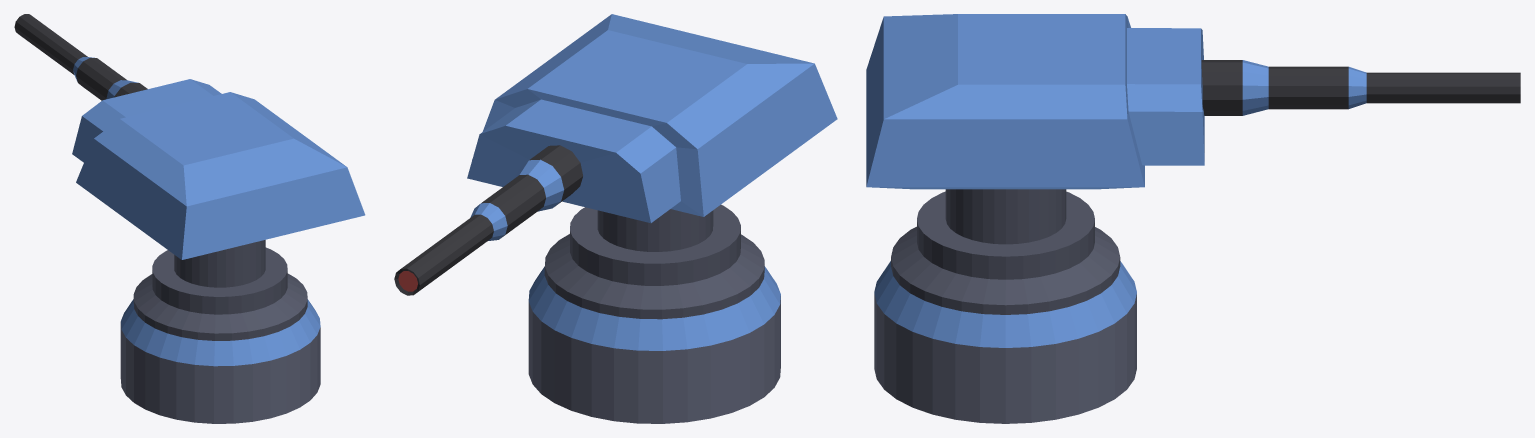
File: TurretV2.fbx
3 renders of one model, left to right at view 1: azimuth 30°, elevation 25°; view 2: azimuth 150°, elevation 25°; view 3: azimuth 270°, elevation 25°, orthographic. The views are drawn at different scales.
Parts seen in each view (by area): view 1: Cylinder.001, Cylinder.002, Cylinder; view 2: Cylinder.001, Cylinder.002, Cylinder; view 3: Cylinder.001, Cylinder.002, Cylinder.
Boxes of the visible parts, x1,y1,x2,y2 form: Cylinder.001: (14,14,365,259); Cylinder.002: (120,299,320,423); Cylinder: (133,240,307,340); Cylinder.001: (394,14,837,295); Cylinder.002: (528,266,780,423); Cylinder: (544,204,764,319); Cylinder.001: (866,14,1520,189); Cylinder.002: (874,261,1136,423); Cylinder: (891,189,1120,314).
Size of the model in its own units: 212 by 268 by 498.
1 material, 1 textured.
